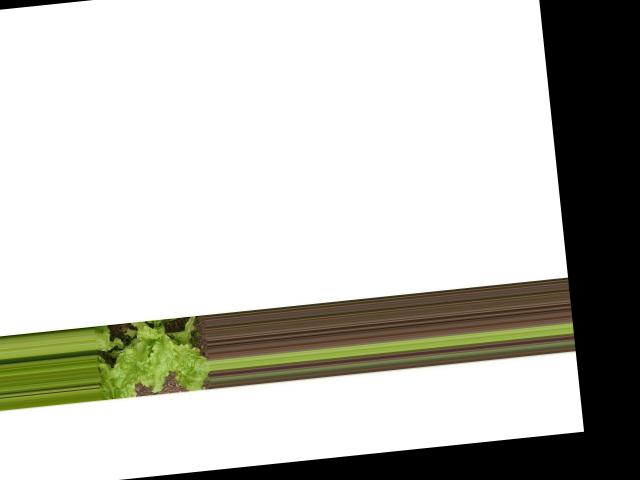lettuce: (92, 310, 210, 397)
